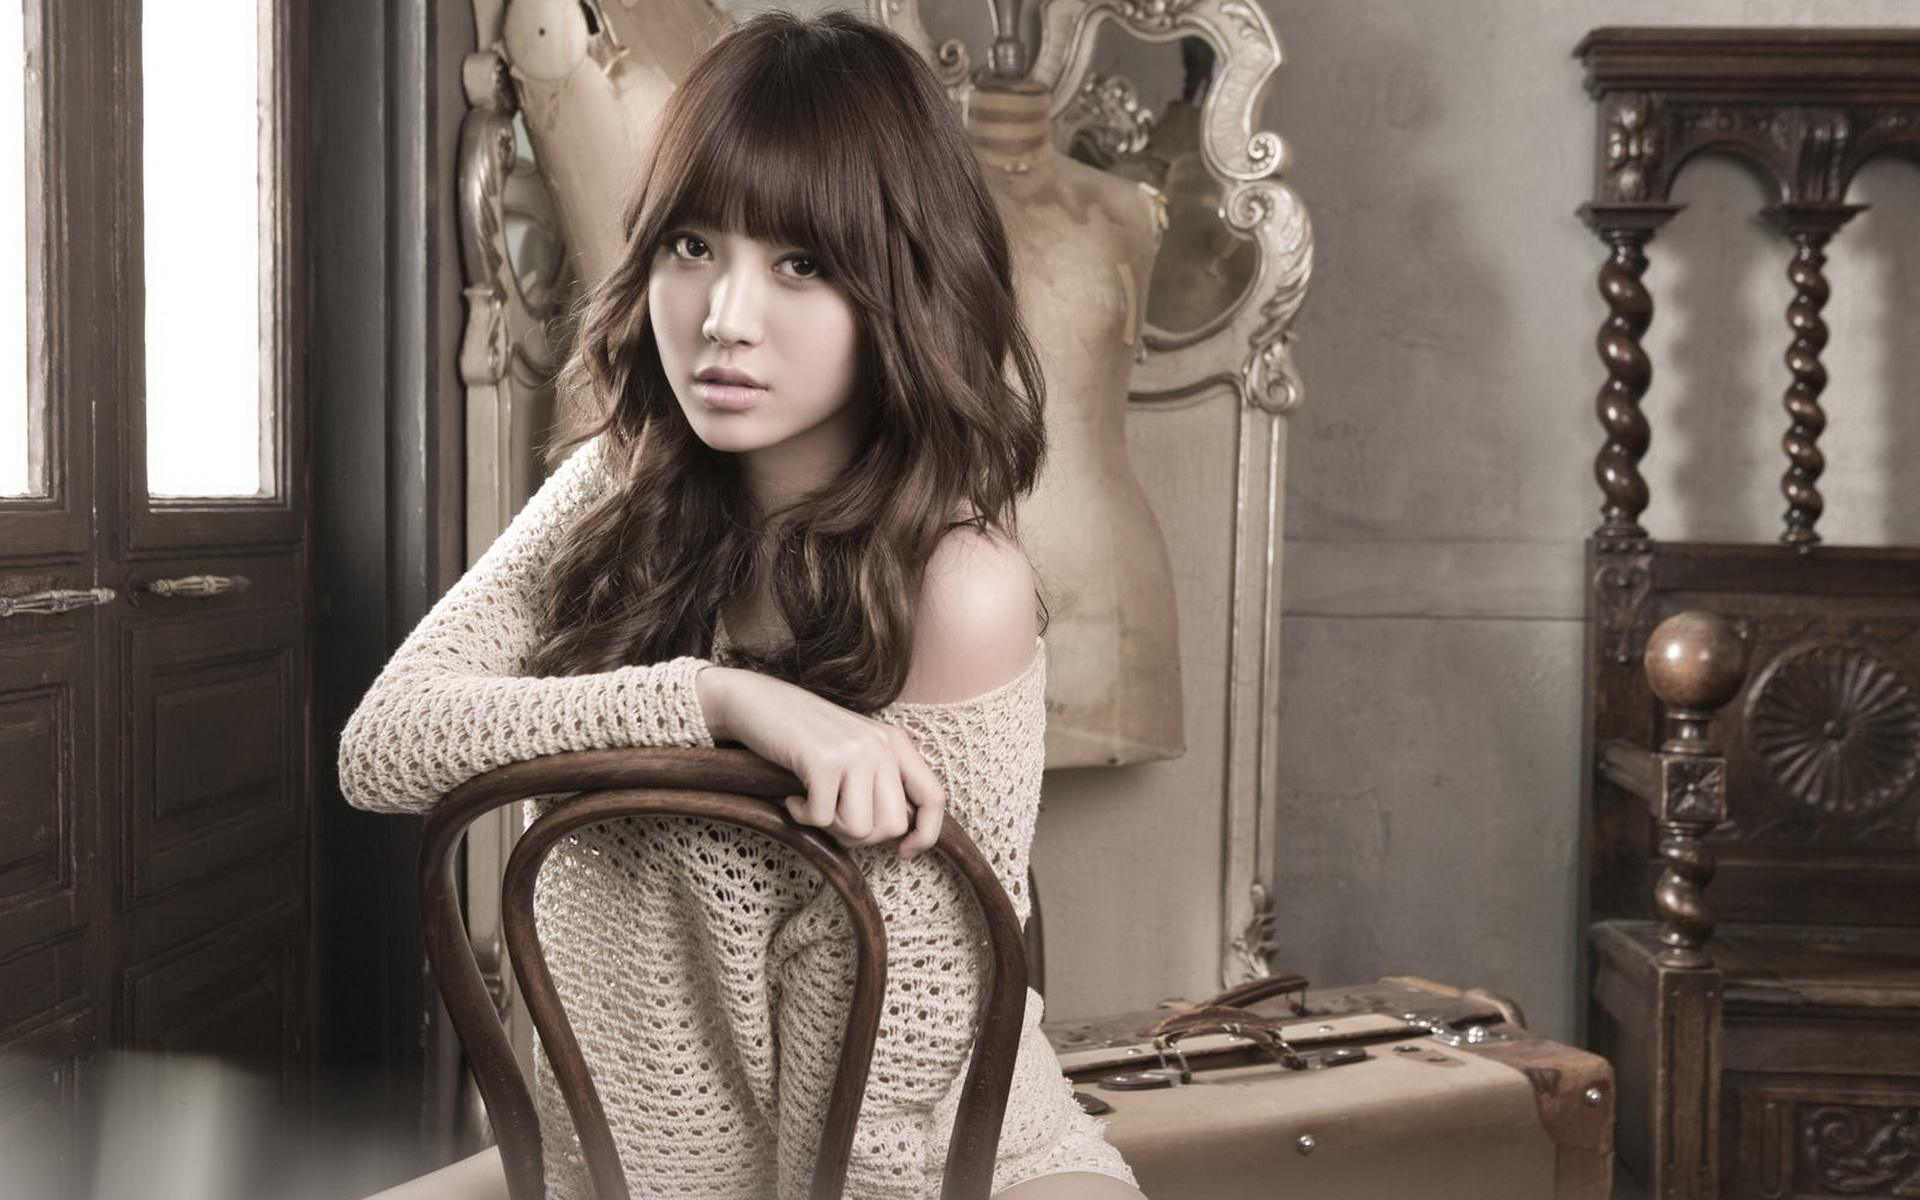person: (272, 60, 1404, 1077)
